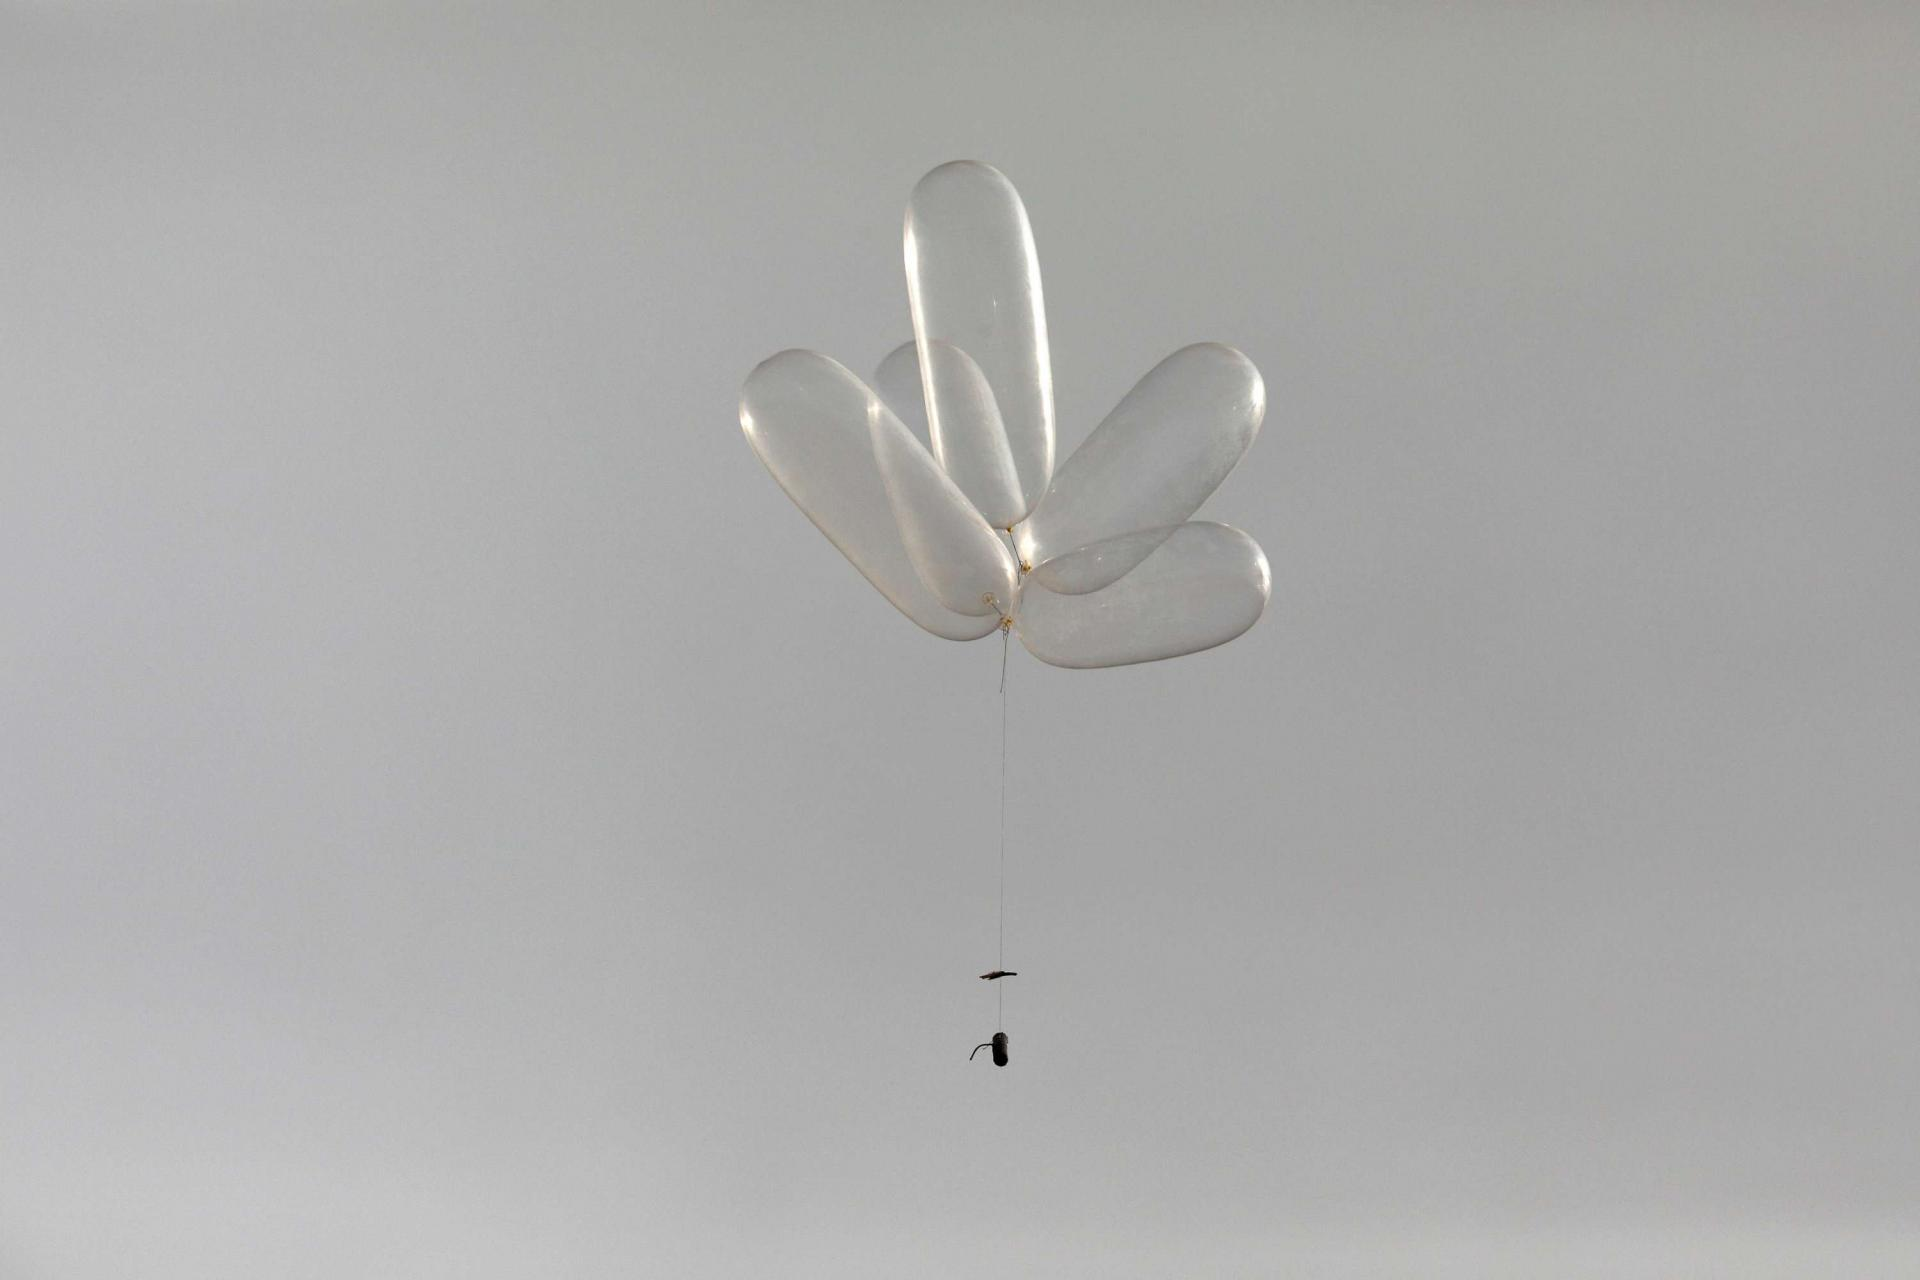Balloon: (737, 351, 1014, 644), (1017, 341, 1263, 594), (904, 163, 1059, 529), (1014, 521, 1274, 669)
